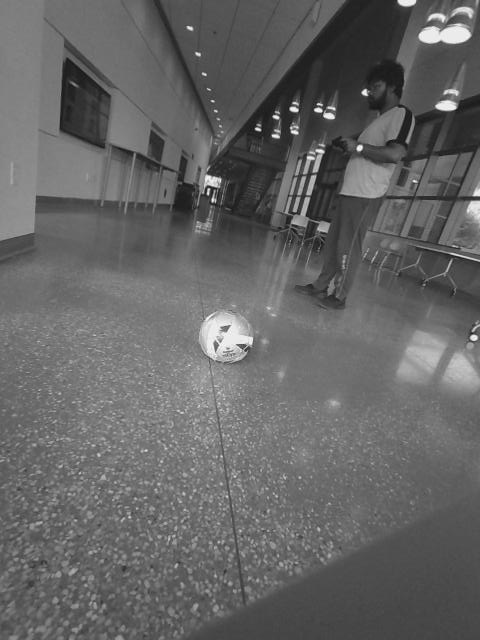ball: (196, 309, 258, 366)
